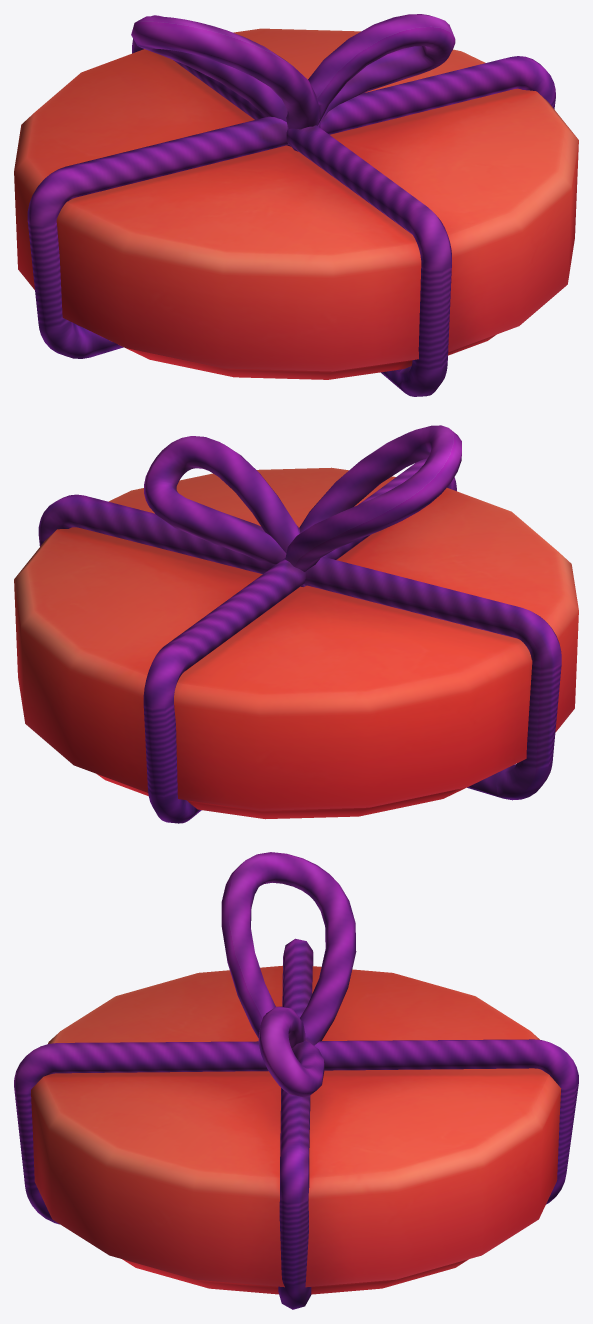
The model's file is SE_Present_06.fbx.
The picture shows the model from 3 angles, top to bottom: view 1: azimuth 30°, elevation 25°; view 2: azimuth 150°, elevation 25°; view 3: azimuth 270°, elevation 25°; orthographic projection. The views are drawn at different scales.
Parts seen in each view (by area): view 1: SE_Present_06; view 2: SE_Present_06; view 3: SE_Present_06.
Part boxes in pixels (x1,y1,x2,y2): SE_Present_06: (14,14,578,396); SE_Present_06: (14,425,578,823); SE_Present_06: (14,852,578,1309).
Size of the model in its own units: 1.92 by 1.16 by 1.92.
